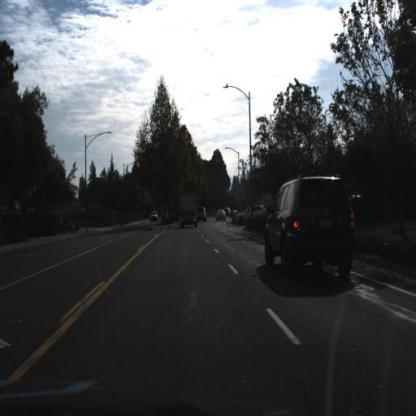car: (260, 176, 359, 282), (177, 192, 200, 236), (233, 204, 267, 231), (234, 203, 268, 227), (215, 207, 228, 226), (150, 209, 160, 226)
truck: (179, 189, 201, 231)
